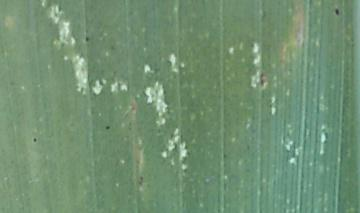tarspot: (256, 73, 268, 88), (136, 174, 143, 187), (30, 135, 38, 145), (334, 6, 341, 17), (83, 34, 92, 42), (104, 123, 111, 131)
